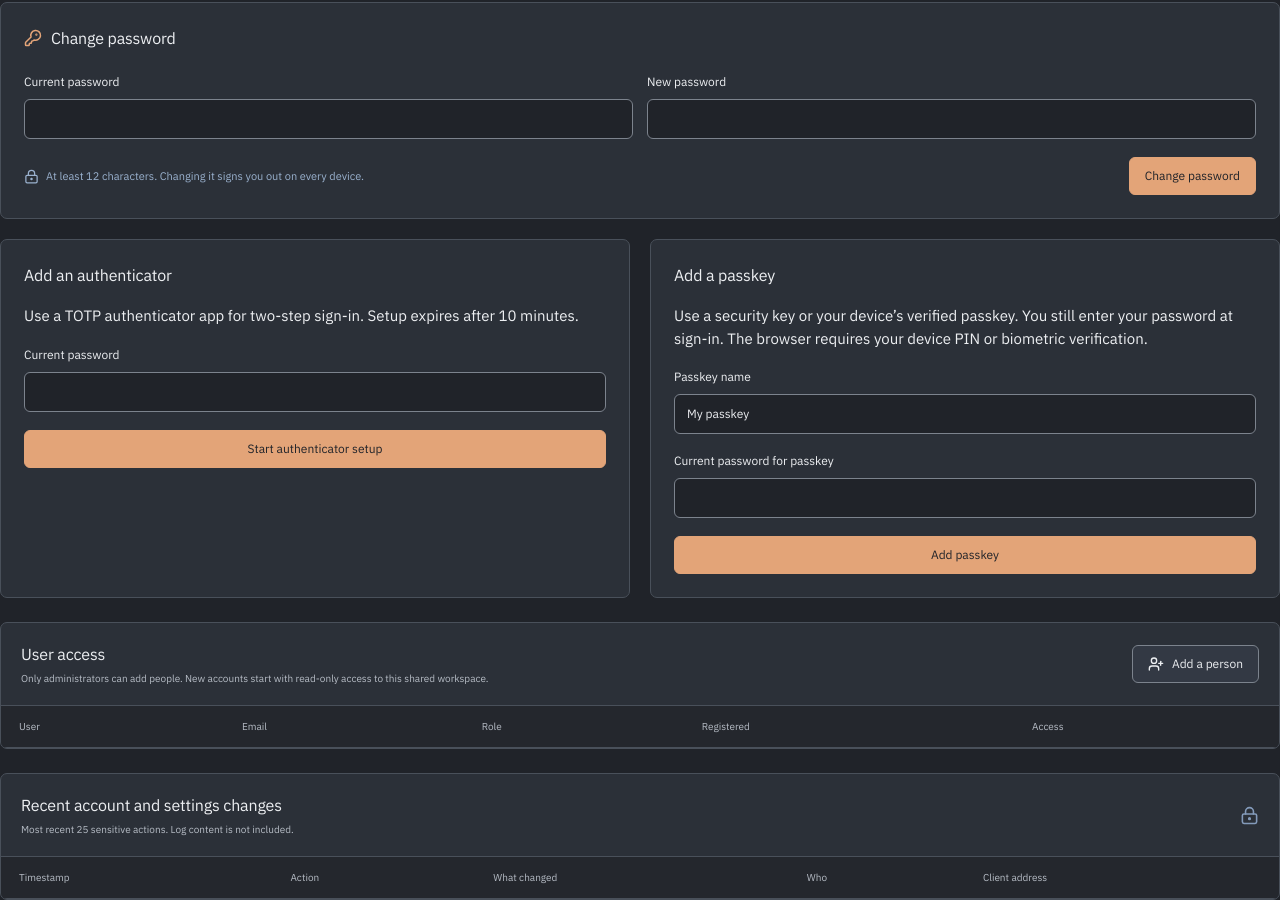
it: administrator account admission › keeps errors actionable and clears the starter password
The width and height of the screenshot is (1280, 900).
(page scrolled)
Click the button "Add a person" at (1196, 664), box [1132,645,1259,683]
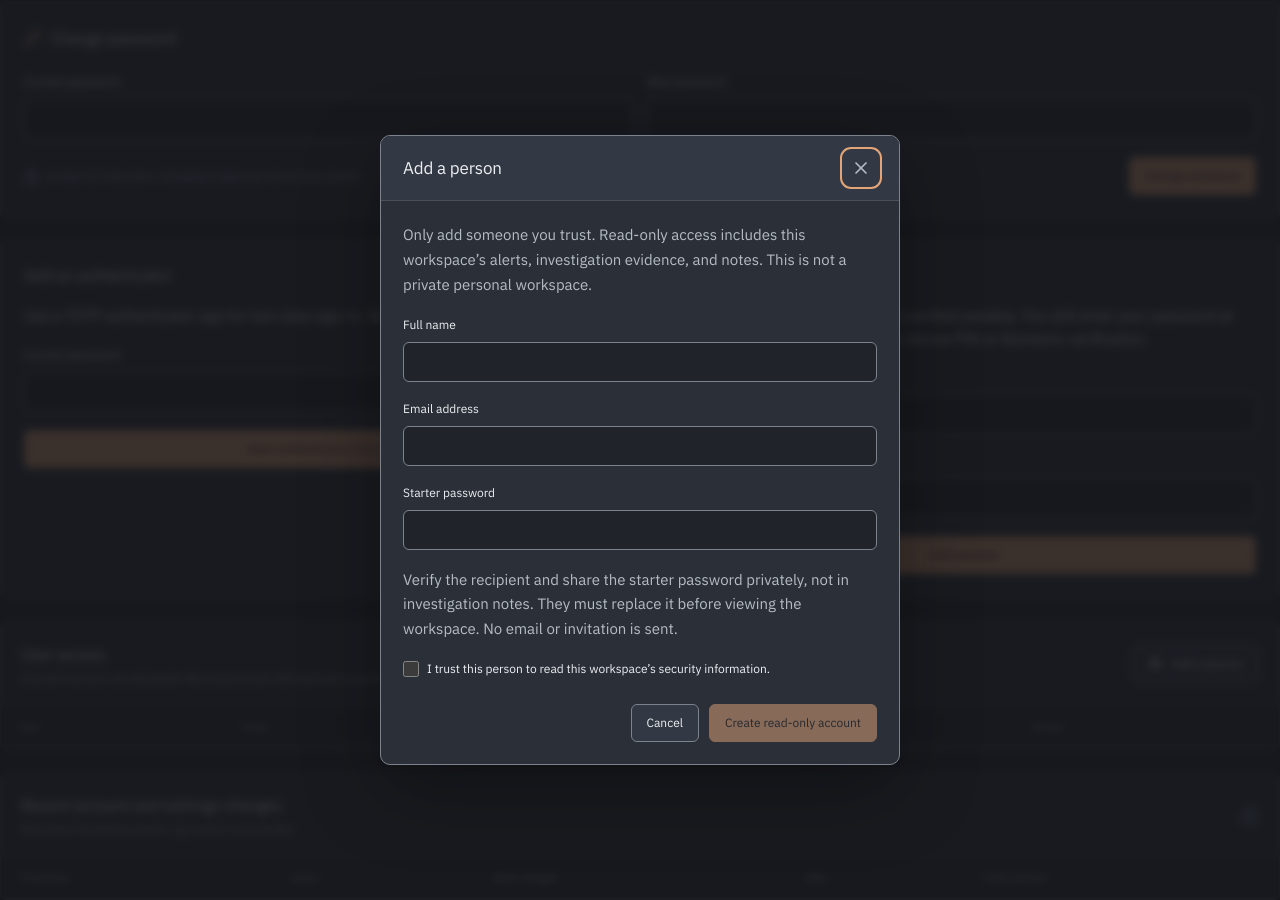
Type "Trusted teammate" into the field labelled "Full name" at (640, 362), box [403,342,877,382]
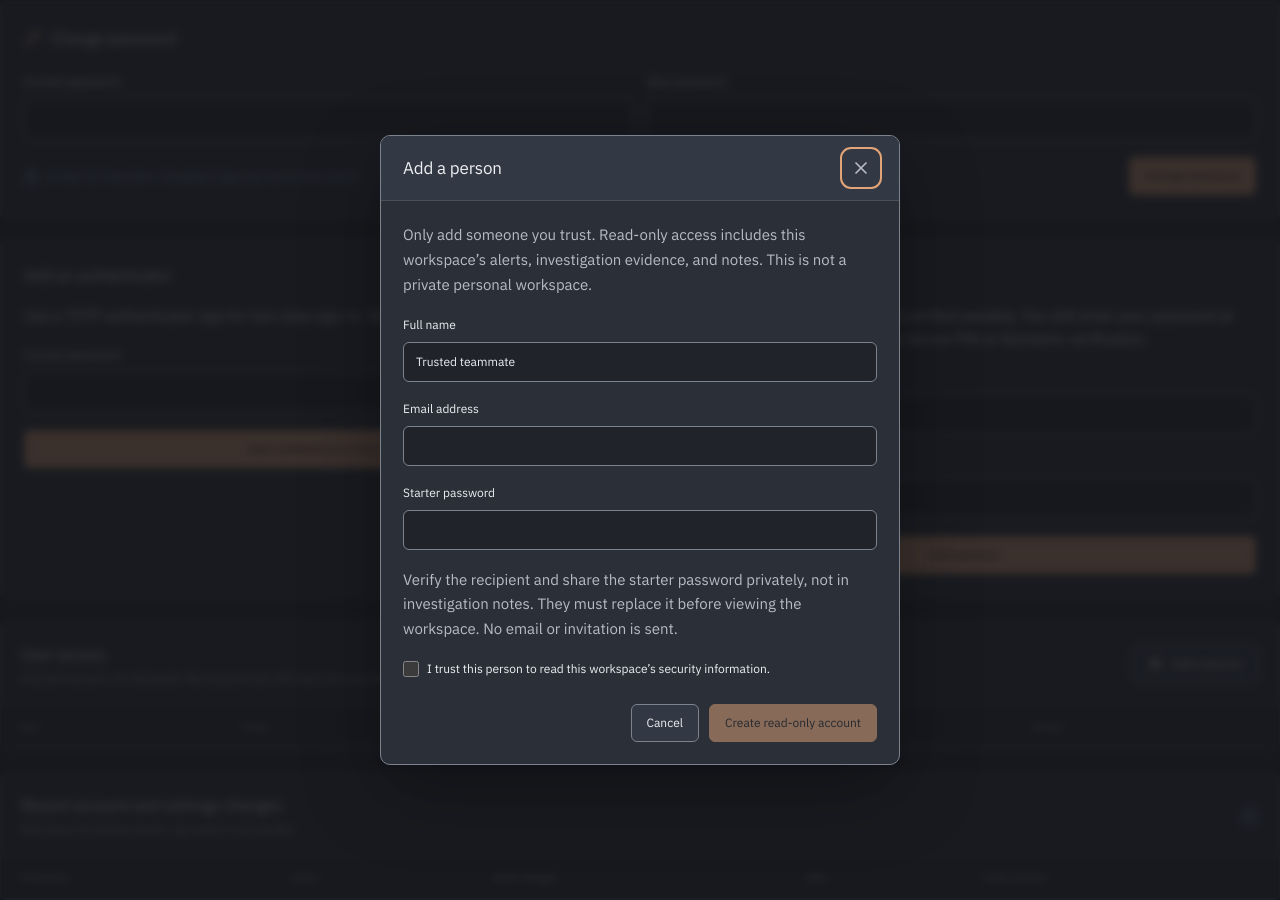
Type "teammate@example.com" into the field labelled "Email address" at (640, 446), box [403,426,877,466]
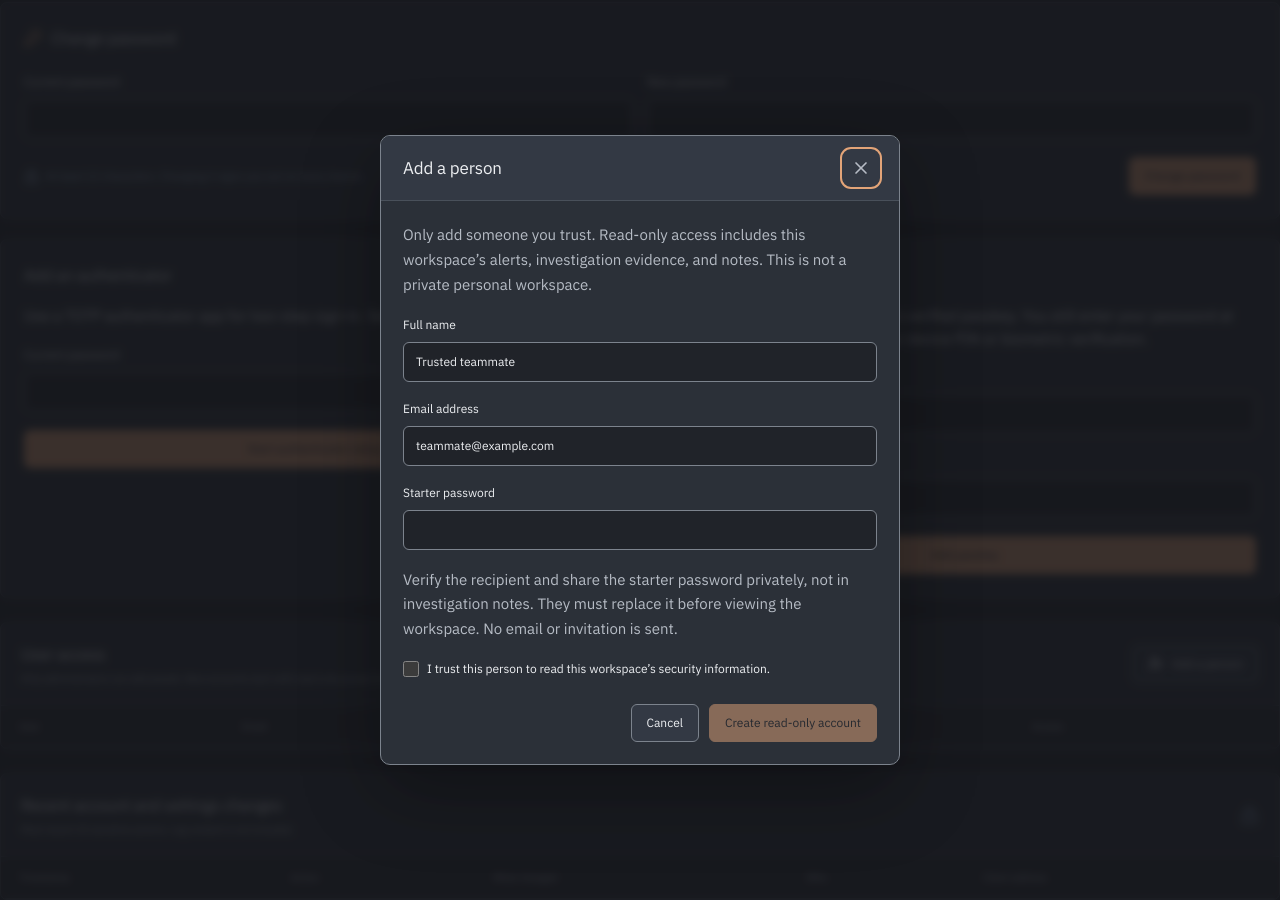
Type "Test-only-password-123!" into the password field labelled "Starter password" at (640, 530), box [403,510,877,550]
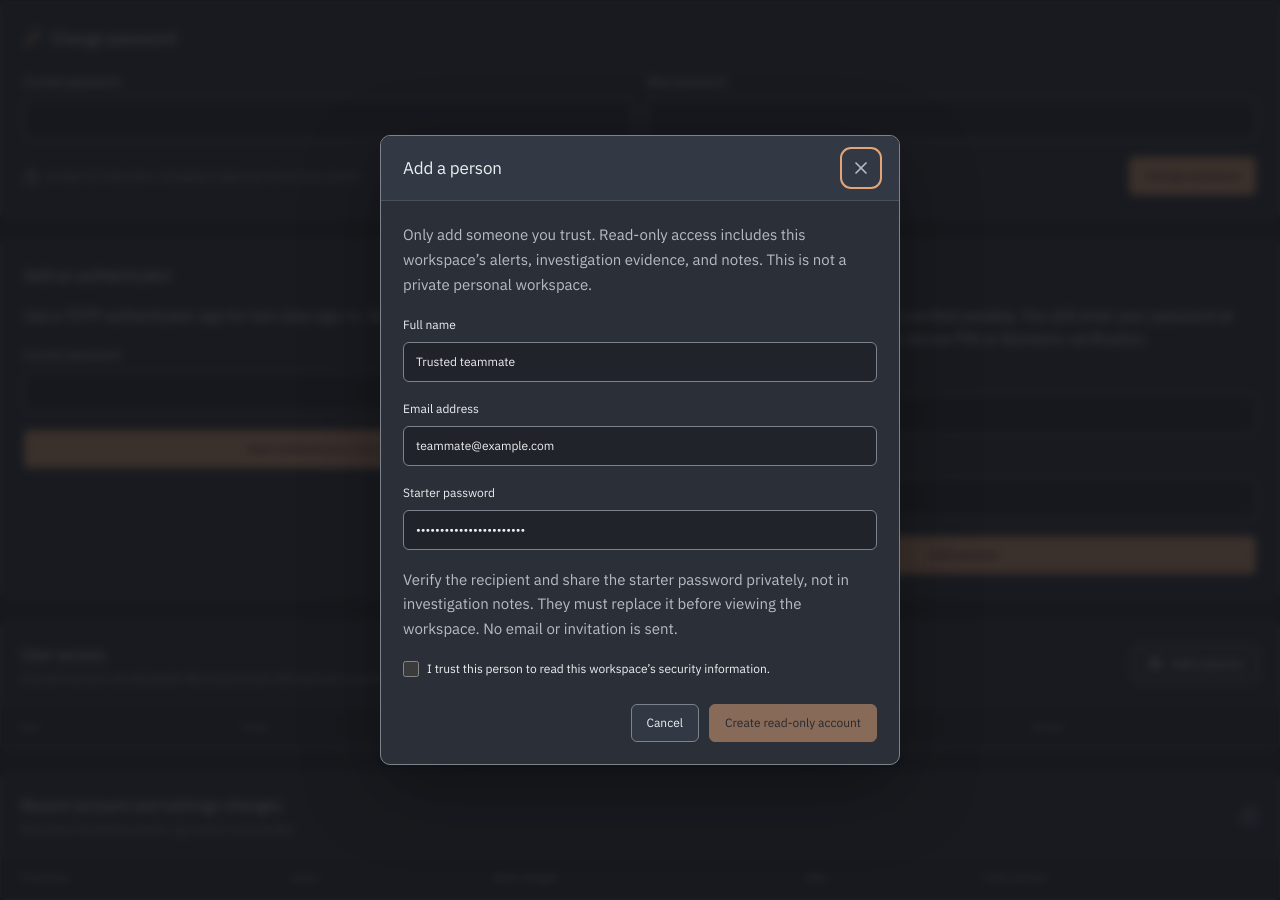
Click the checkbox at (411, 669), box [403,661,419,677]
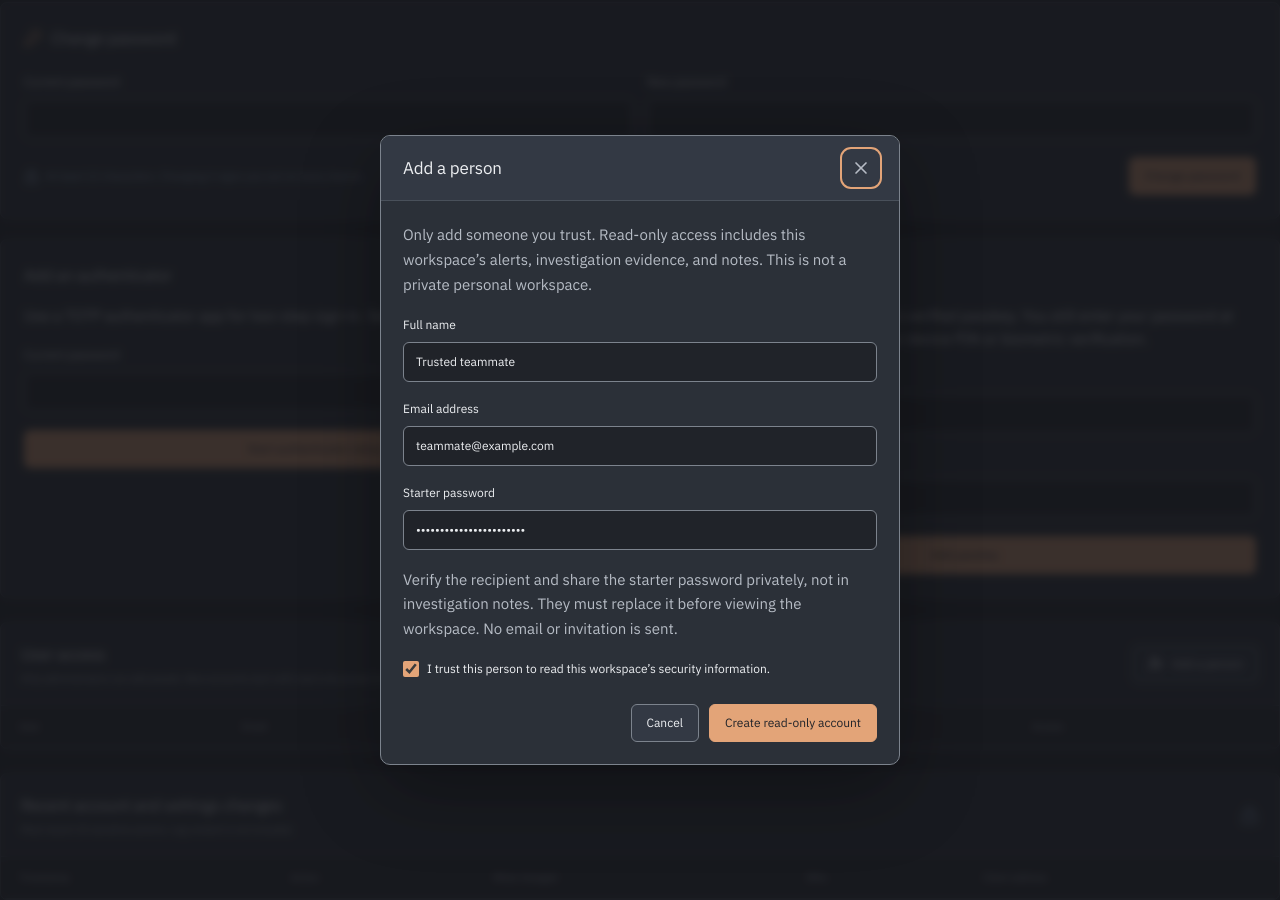
Click the button "Create read-only account" at (793, 723), box [709,704,877,742]
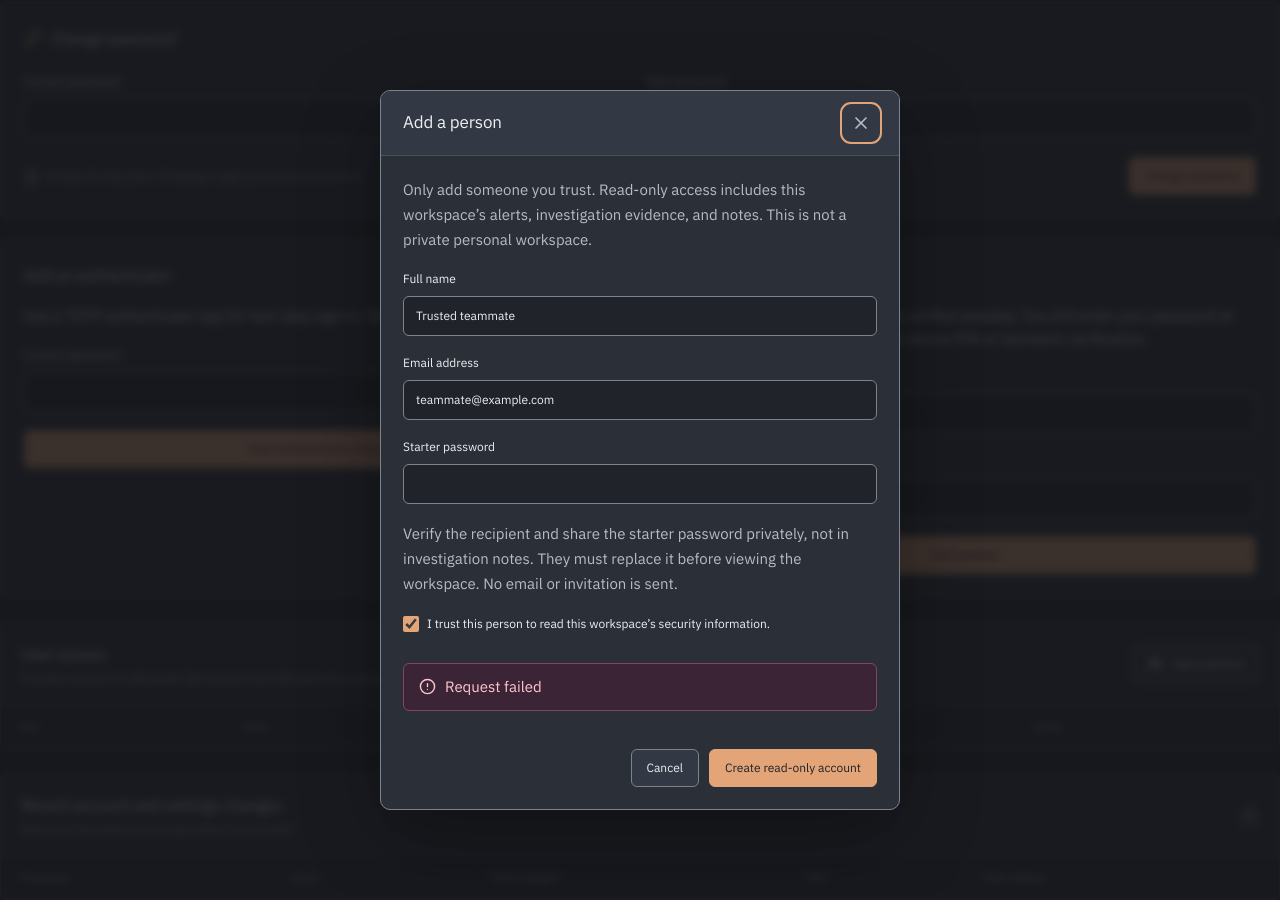
Expected: the message reads "Request failed", [445,676,542,696]
Expected: the password field labelled "Starter password" is empty, [403,464,877,504]
